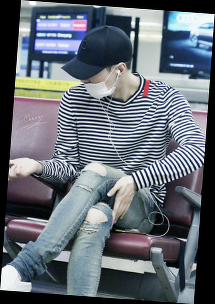mask_weared_incorrect: (80, 66, 116, 101)
